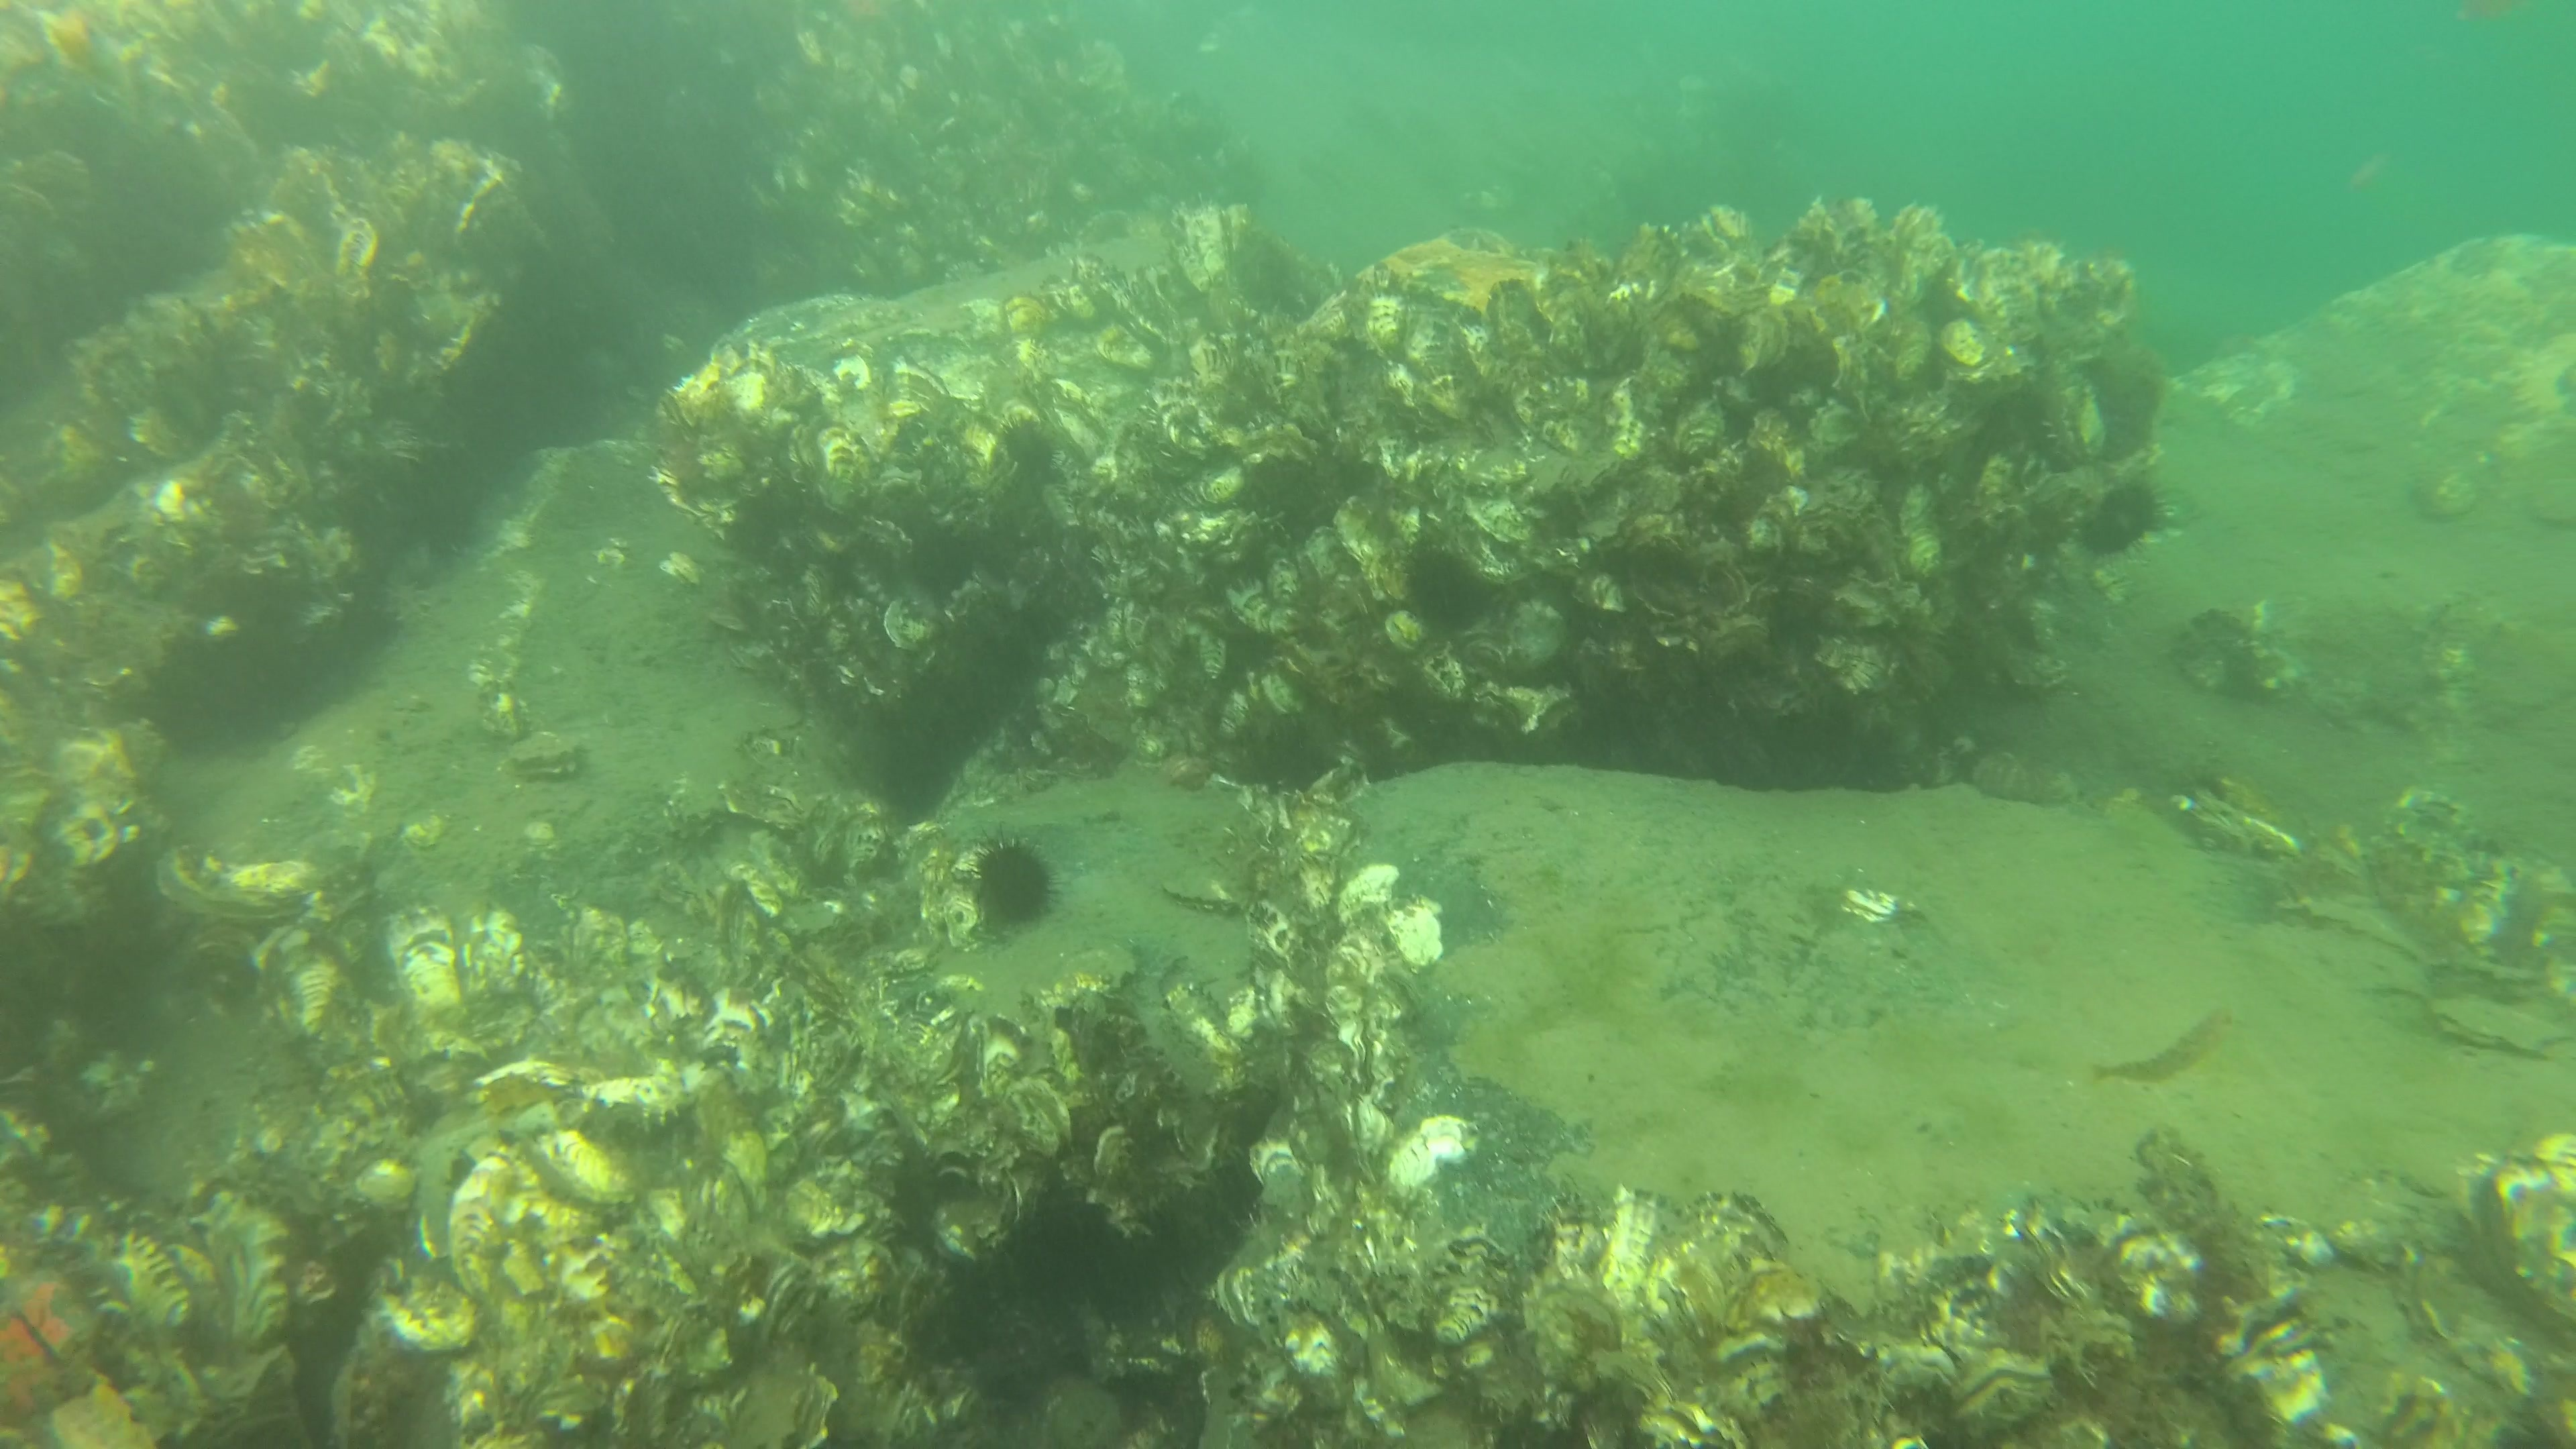echinus: (961, 837, 1062, 936), (1405, 548, 1491, 635), (2082, 479, 2167, 557), (1000, 421, 1060, 485)
